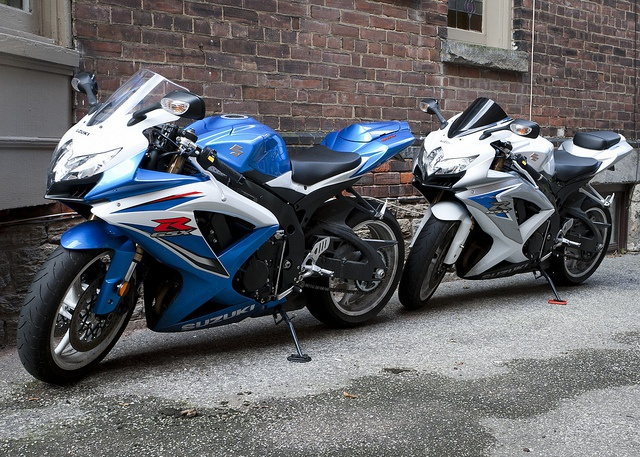non-vehicle: (17, 68, 416, 385), (393, 93, 635, 313)
